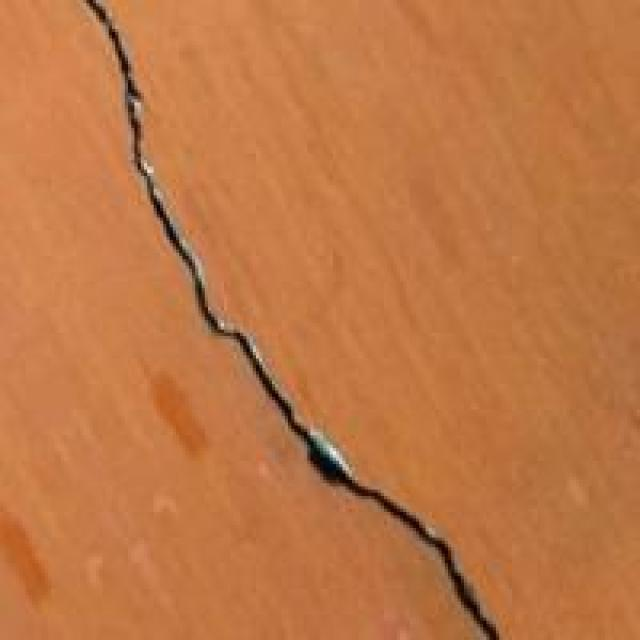crack: (70, 3, 516, 640)
